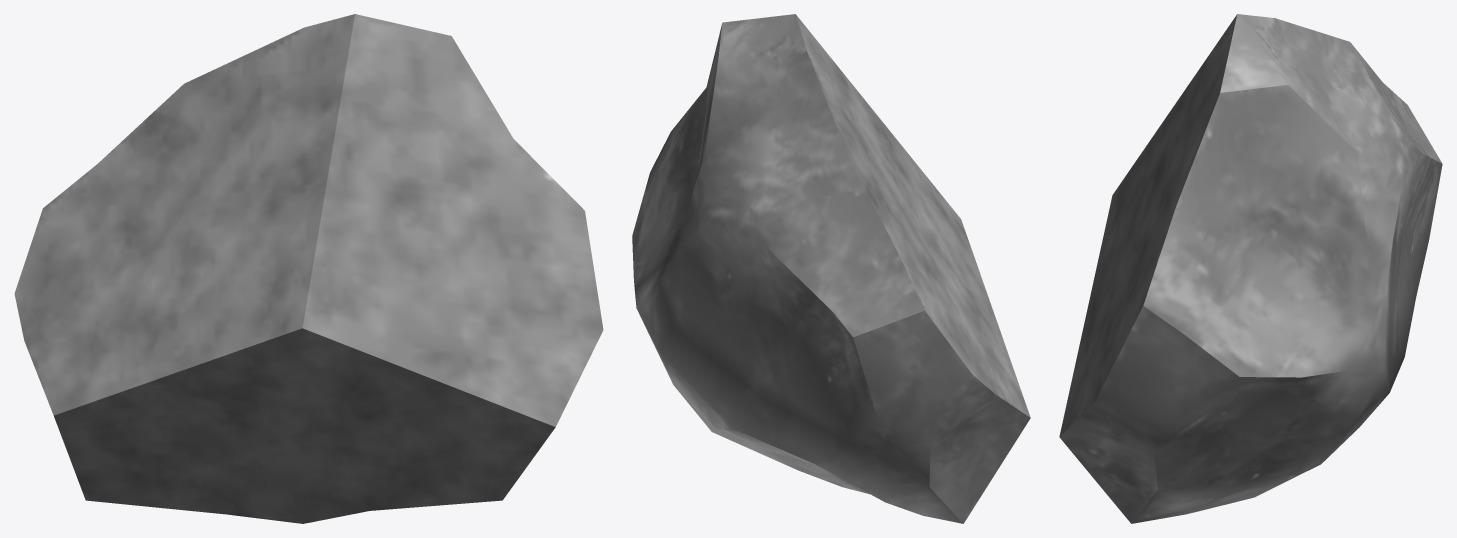
Rendered from frag_02.glb.
3 renders of one model, left to right at view 1: azimuth 30°, elevation 25°; view 2: azimuth 150°, elevation 25°; view 3: azimuth 270°, elevation 25°, orthographic. The views are drawn at different scales.
Parts seen in each view (by area): view 1: frag_02; view 2: frag_02; view 3: frag_02.
Part boxes in pixels (box(x1,y1,x2,y2)): frag_02: box(14, 14, 603, 523); frag_02: box(632, 14, 1030, 523); frag_02: box(1059, 14, 1442, 523).
Size of the model in its own units: 1.69 by 1.74 by 1.23.
Materials: 1 (1 with a texture image).
